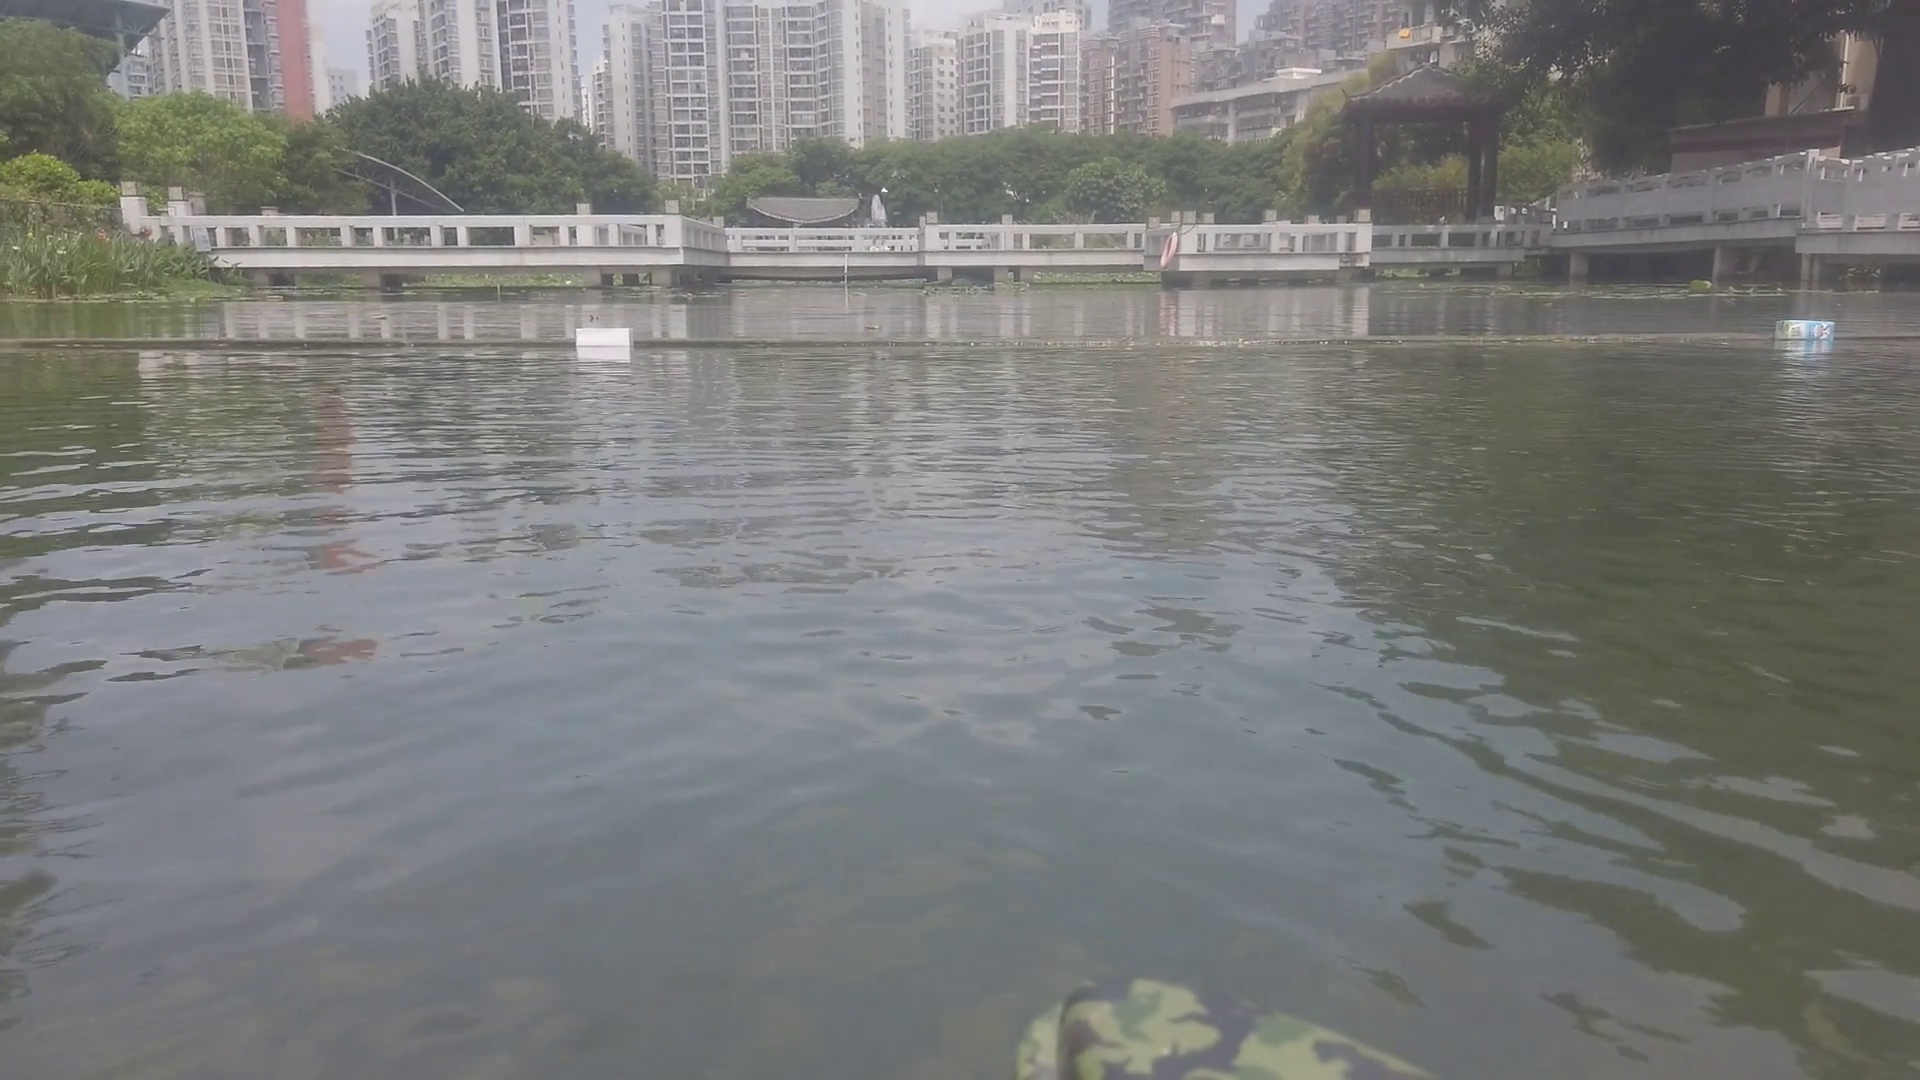carton: (567, 326, 640, 349), (1770, 320, 1840, 339)
